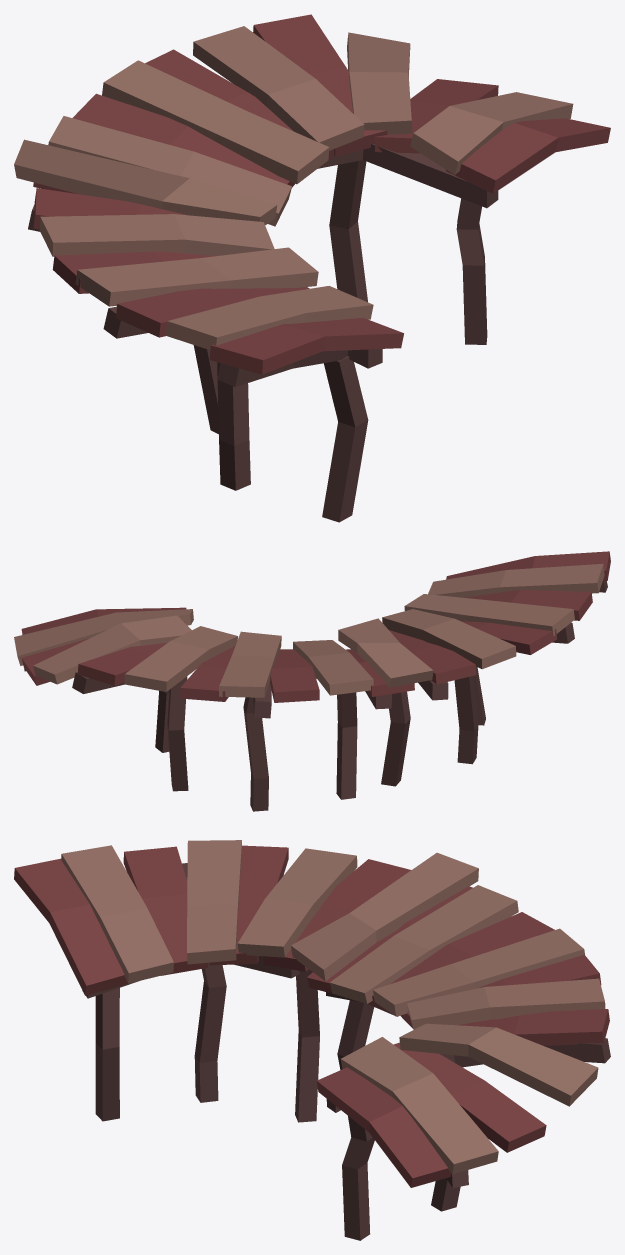
The model's file is DarkRoseWoodDecorationMediumTileAwning1.fbx.
3 views of the same model, one above another, from view 1: azimuth 30°, elevation 25°; view 2: azimuth 150°, elevation 25°; view 3: azimuth 270°, elevation 25° (orthographic). The views are drawn at different scales.
Parts seen in each view (by area): view 1: DarkRoseWoodDecorationMediumTileAwning1; view 2: DarkRoseWoodDecorationMediumTileAwning1; view 3: DarkRoseWoodDecorationMediumTileAwning1.
Boxes of the visible parts, box(x1,y1,x2,y2) form: DarkRoseWoodDecorationMediumTileAwning1: box(14, 14, 610, 522); DarkRoseWoodDecorationMediumTileAwning1: box(14, 551, 610, 811); DarkRoseWoodDecorationMediumTileAwning1: box(14, 840, 610, 1240).
Size of the model in its own units: 1652 by 604 by 1566.
Materials: 3 (3 with a texture image).
